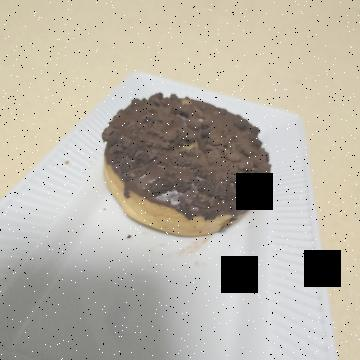doughnut: (87, 85, 256, 289)
